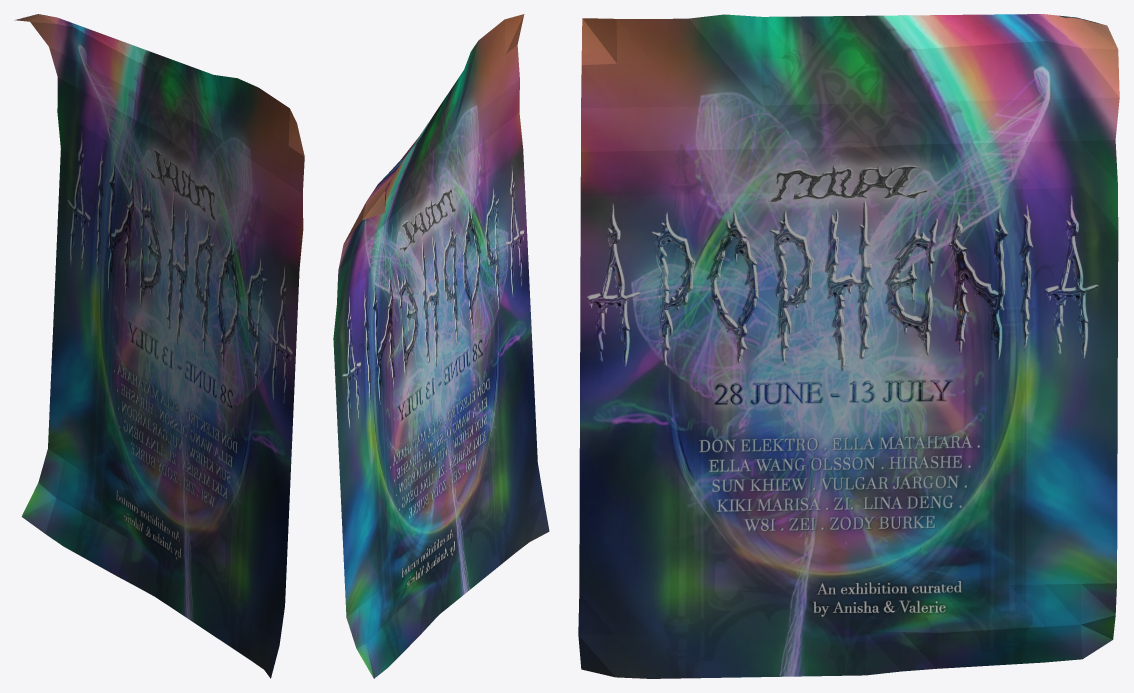
The model's file is apophenia.glb.
The picture shows the model from 3 angles, left to right: view 1: azimuth 30°, elevation 25°; view 2: azimuth 150°, elevation 25°; view 3: azimuth 270°, elevation 25°; orthographic projection. The views are drawn at different scales.
Visible parts, largest first — view 1: pPlane1_Poster_01_Mat 8; view 2: pPlane1_Poster_01_Mat 8; view 3: pPlane1_Poster_01_Mat 8.
Part boxes in pixels (<box>): pPlane1_Poster_01_Mat 8: <box>14,14,304,678</box>; pPlane1_Poster_01_Mat 8: <box>333,14,549,678</box>; pPlane1_Poster_01_Mat 8: <box>578,14,1119,678</box>.
Size of the model in its own units: 8.48 by 60.58 by 44.
1 material, 1 textured.
